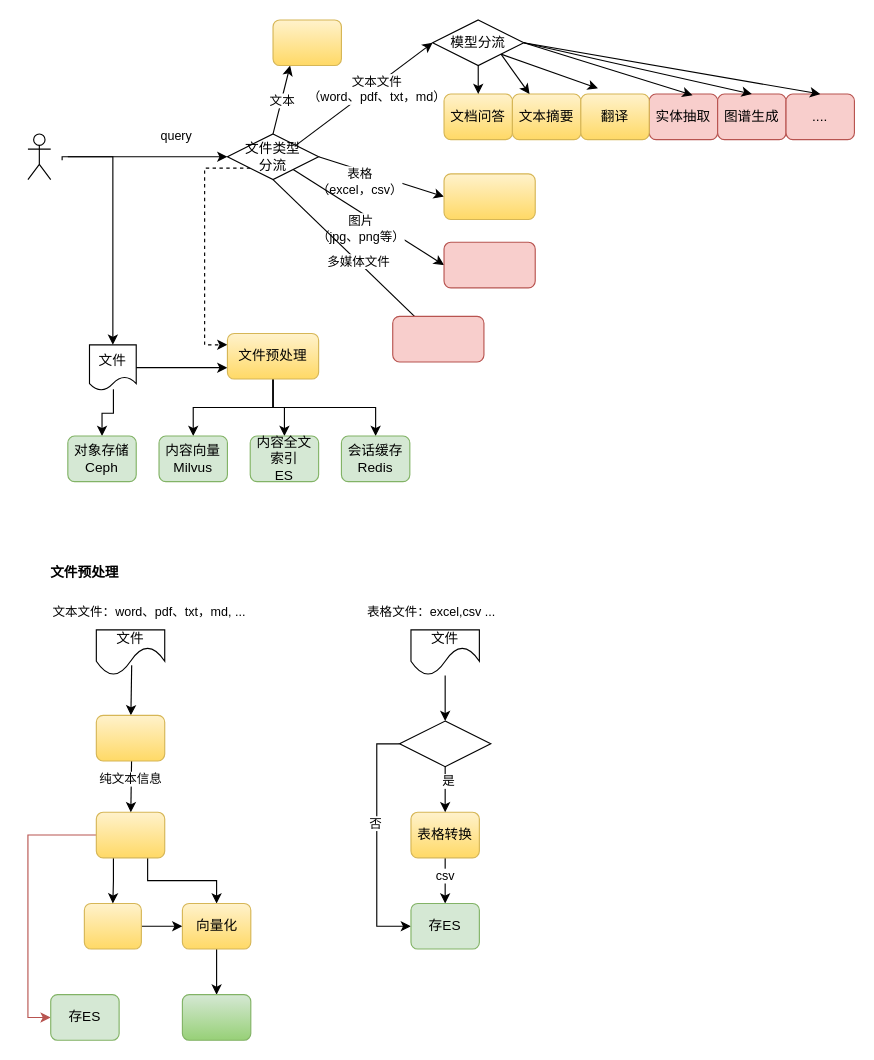
Image size: 874x1060. Some labels were removed from this diagram. Here are the shapes that lost their labels. From the top down, the centre of each, then its label:
At point 306,42: "文本问答".
At point 39,156: "Actor".
At point 489,196: "表格问答 （统计、生成图）".
At point 489,264: "图片识别问答".
At point 438,338: "多媒体识别问答".
At point 130,737: "文档转换".
At point 444,743: "需要转换？".
At point 130,834: "分片".
At point 112,925: "句子切割".
At point 216,1017: "存Milvus".
